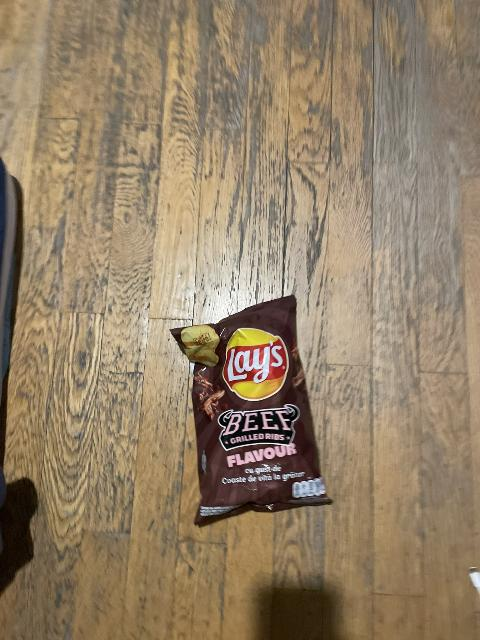Lays Beef Grilled Ribs 125g: (171, 299, 338, 520)
